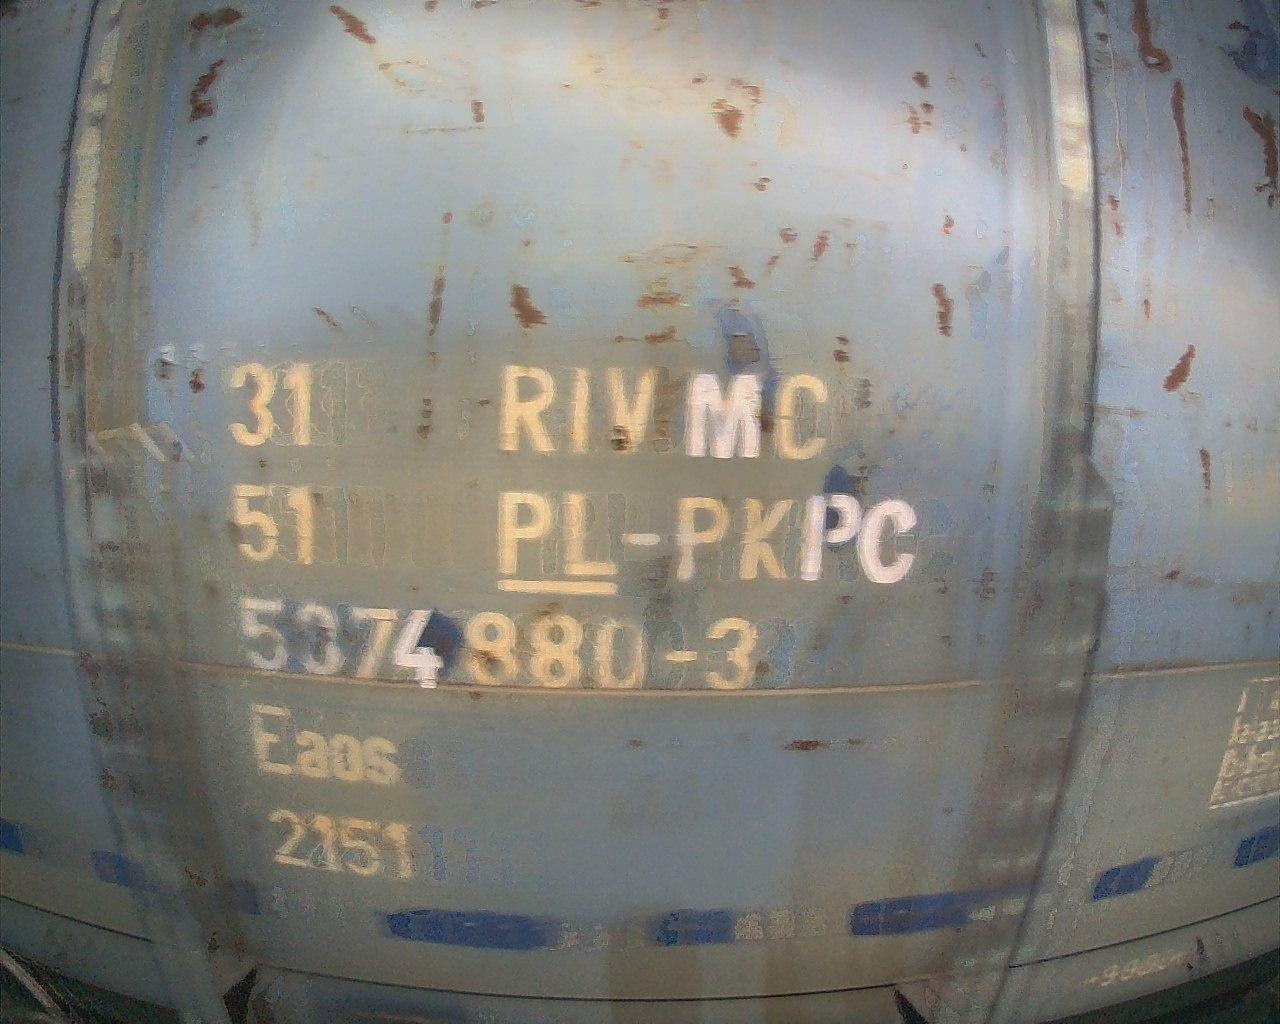UIC: (222, 352, 928, 897)
